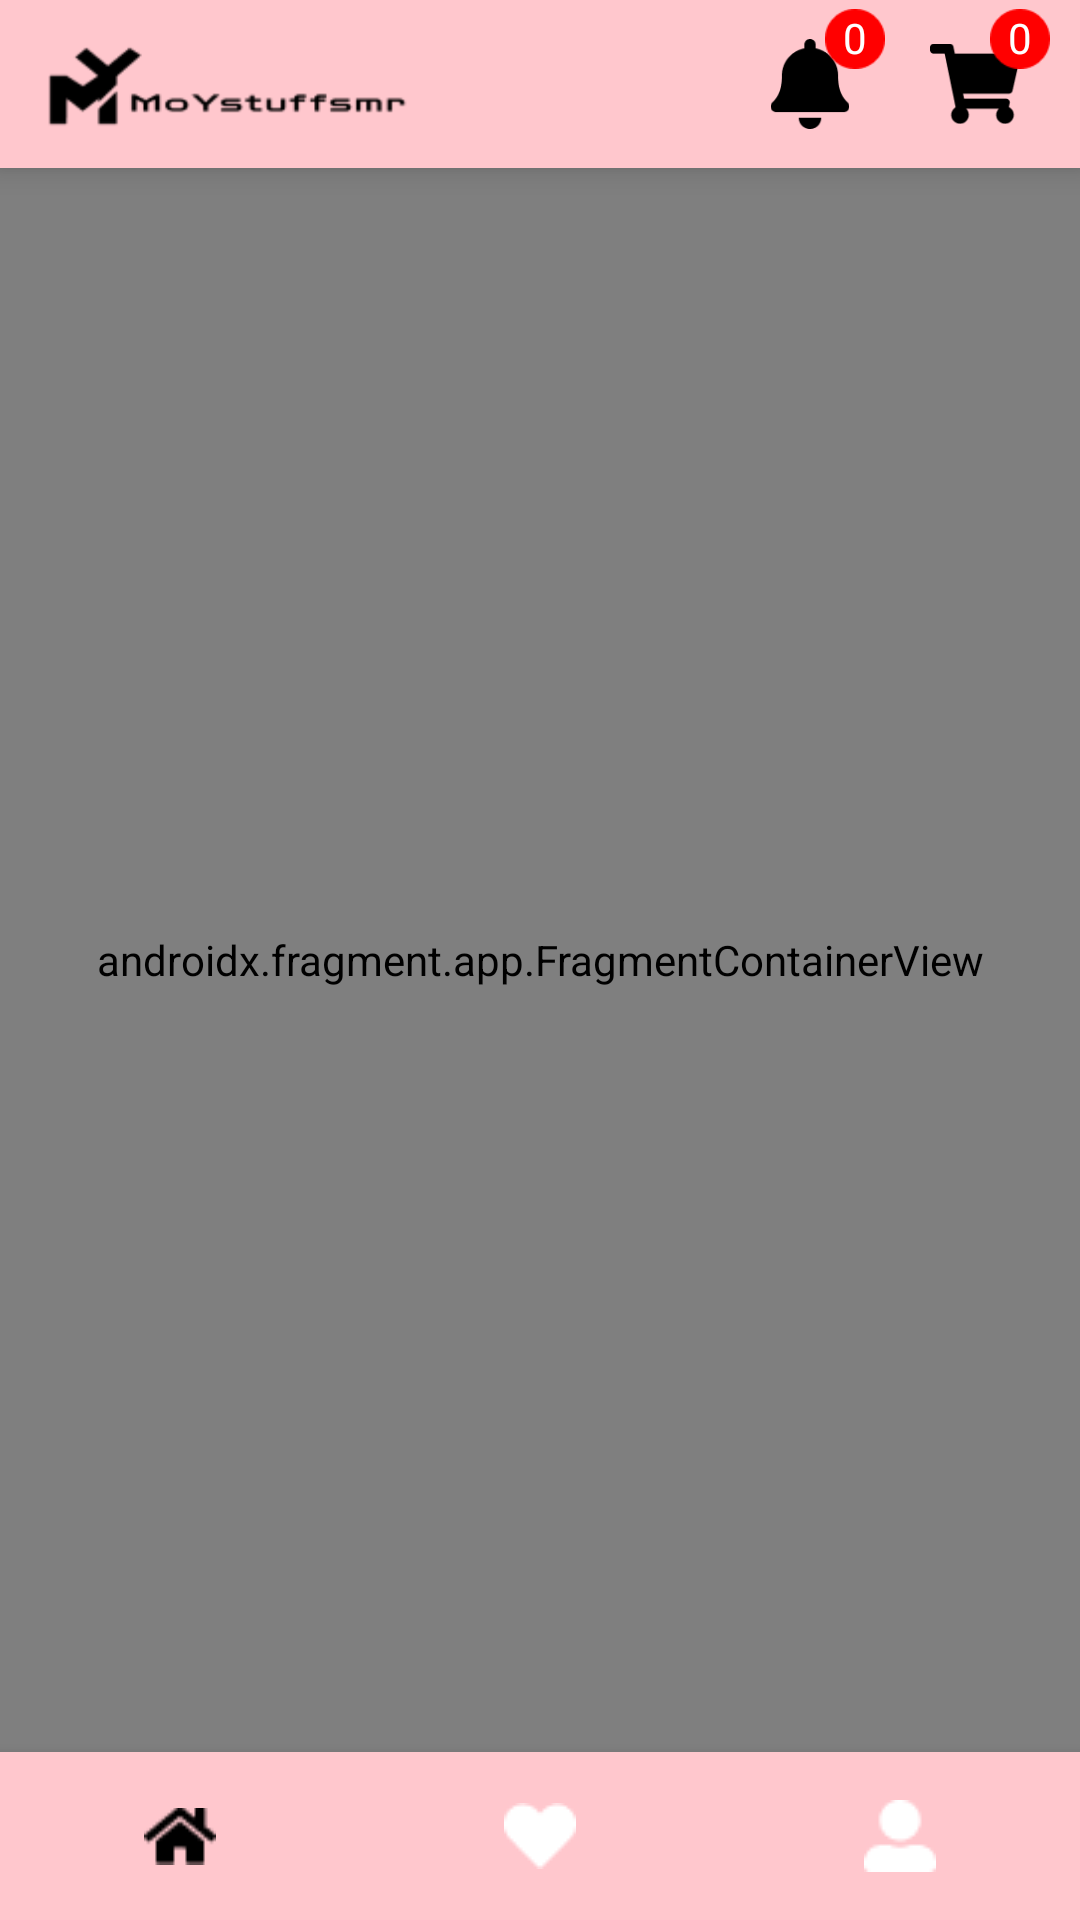

Named icons in this screenshot (1080w x 1920h) and their centers, [x,y]:
bell: [813,84]
cart: [975,81]
